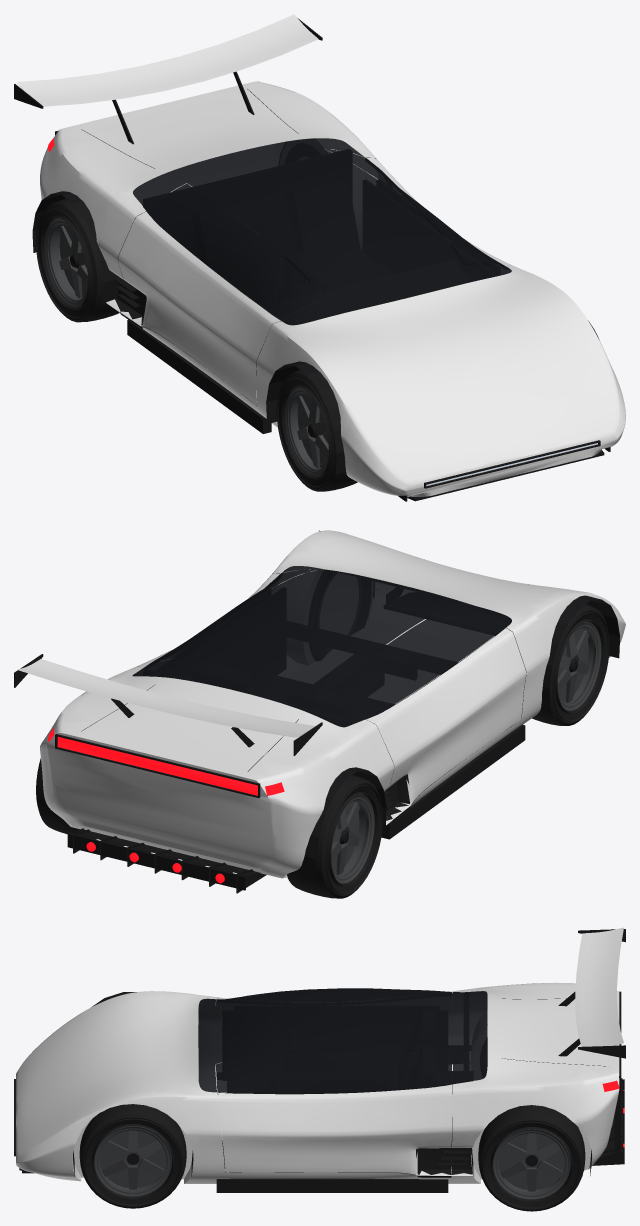
The model's file is roadster2026_phone.glb.
3 renders of one model, top to bottom at view 1: azimuth 30°, elevation 25°; view 2: azimuth 150°, elevation 25°; view 3: azimuth 270°, elevation 25°, orthographic. The views are drawn at different scales.
Visible parts, largest first — view 1: body, glass, door_L_mesh, trim, door_L_glass, wheel_RL_mesh, wheel_FL_mesh, door_R_glass; view 2: body, glass, door_L_mesh, trim, door_L_glass, wheel_RL_mesh, wheel_FL_mesh, lights, door_R_glass, wheel_RR_mesh; view 3: body, glass, door_R_mesh, door_R_glass, wheel_RR_mesh, wheel_FR_mesh, trim.
Boxes of the visible parts, x1,y1,x2,y2 form: body: (17,14,625,497); glass: (133,138,511,324); door_L_mesh: (118,211,280,405); trim: (14,18,610,501); door_L_glass: (147,183,323,320); wheel_RL_mesh: (36,198,119,322); wheel_FL_mesh: (276,370,357,491); door_R_glass: (326,149,504,265); body: (17,530,625,878); glass: (133,566,511,726); door_L_mesh: (366,628,526,818); trim: (14,530,619,893); door_L_glass: (326,604,505,718); wheel_RL_mesh: (287,775,382,898); wheel_FL_mesh: (532,604,609,725); lights: (48,727,284,883); door_R_glass: (147,569,322,665); wheel_RR_mesh: (36,758,79,834); body: (16,927,623,1183); glass: (198,988,487,1092); door_R_mesh: (218,1084,452,1175); door_R_glass: (216,1049,451,1093); wheel_RR_mesh: (478,1105,585,1211); wheel_FR_mesh: (79,1104,186,1208); trim: (14,929,625,1192).
Size of the model in its own units: 2.03 by 1.32 by 4.34.
